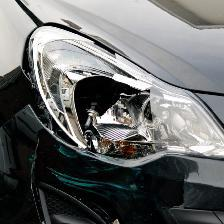broken_light: (14, 15, 224, 180)
